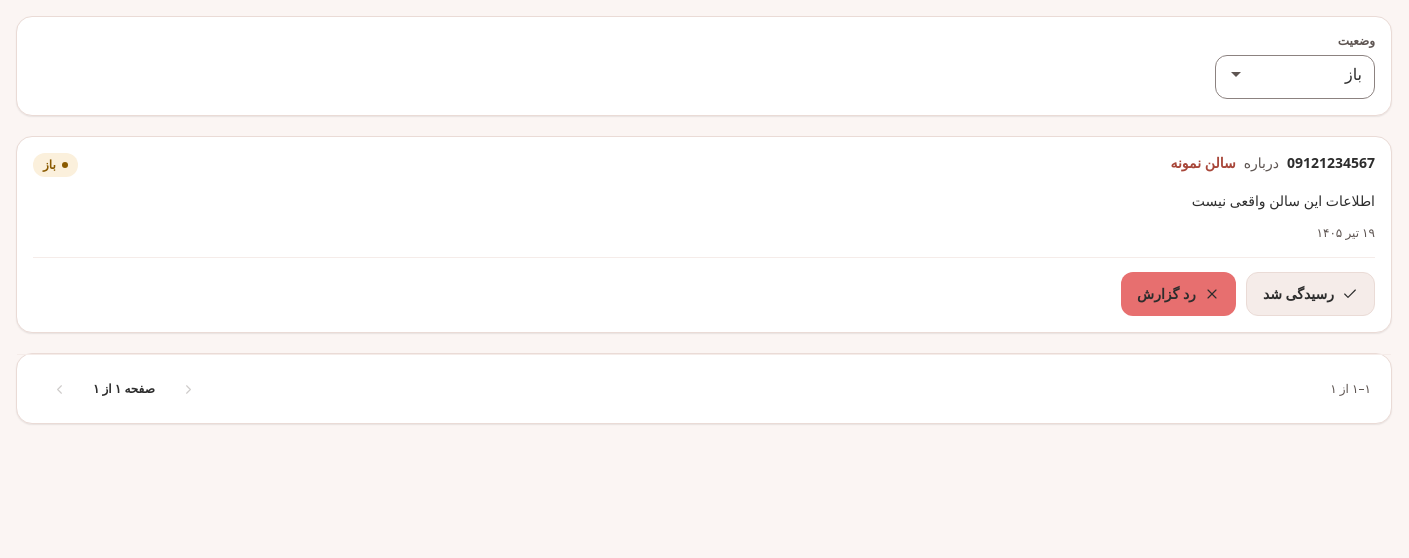
Scenario: ReportsView › reloads the list after a successful resolve, so the card leaves the open queue
Click the button with test id "resolve-button" at (1310, 294), box [1246,272,1375,316]
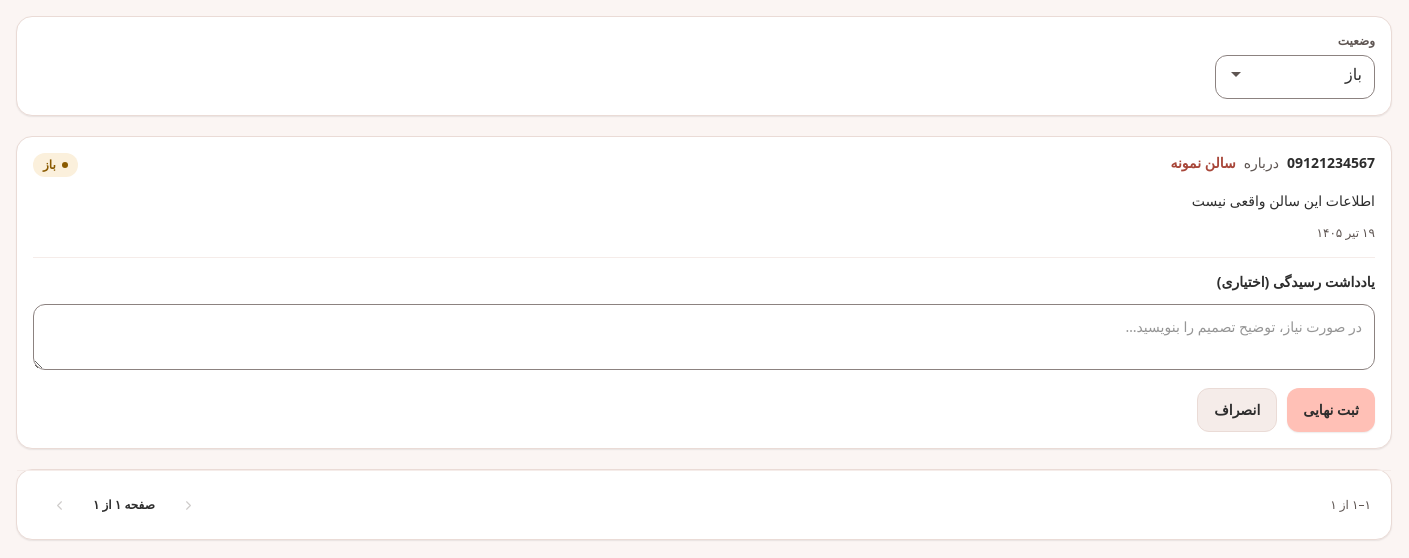
Click the button with test id "submit-resolution" at (1331, 410), box [1287,388,1375,432]
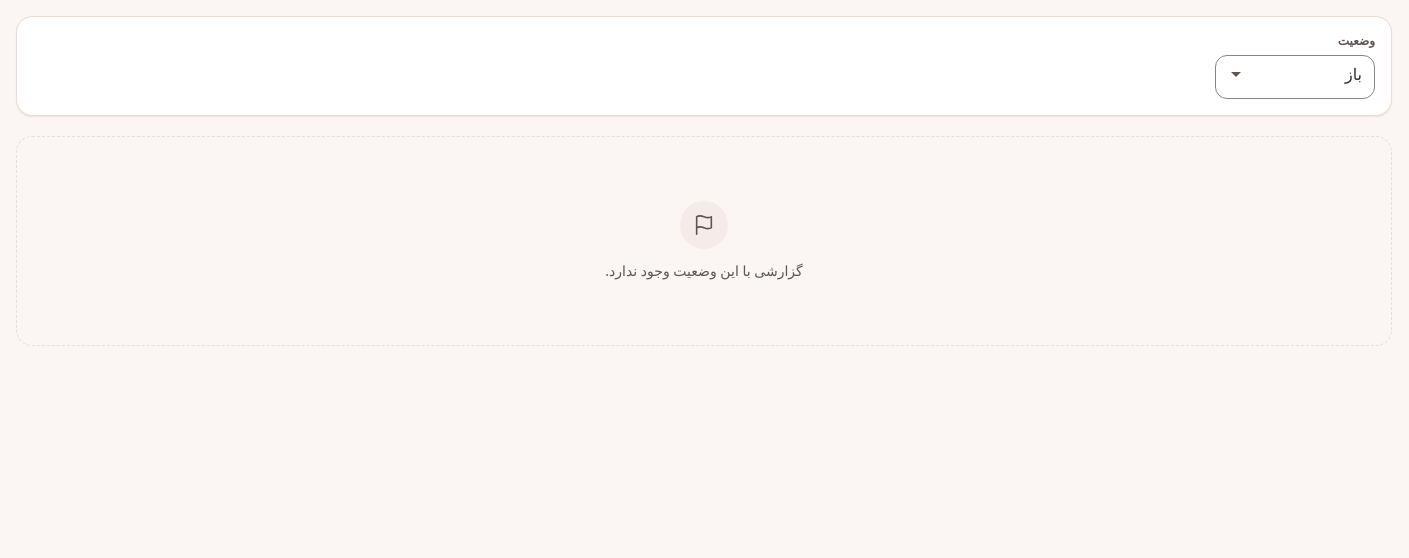
Expected: the text "گزارشی با این وضعیت وجود ندارد." is shown, [605,261,803,281]
